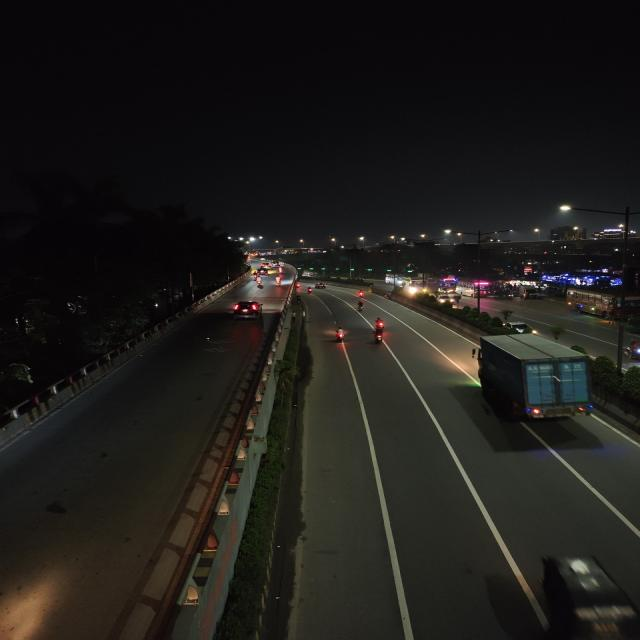bus: (565, 286, 639, 322), (457, 278, 494, 298), (427, 277, 458, 297), (404, 275, 426, 295)
car: (230, 300, 263, 320), (315, 283, 327, 291)
motorcycle: (368, 317, 392, 346), (328, 324, 351, 345), (622, 337, 640, 361), (355, 298, 367, 313), (274, 276, 285, 287), (354, 288, 366, 297), (254, 275, 264, 285)
truck: (467, 334, 600, 426), (521, 287, 542, 299)
